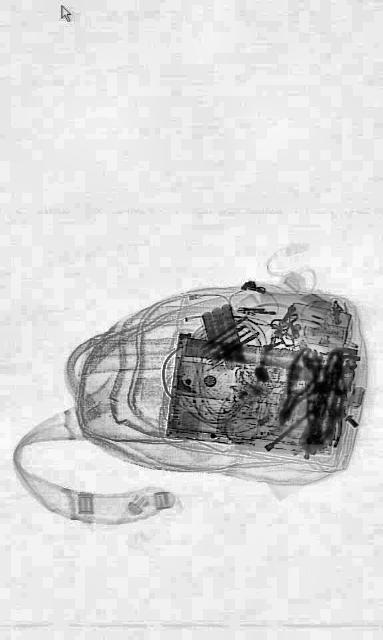Pliers: (270, 340, 326, 434)
